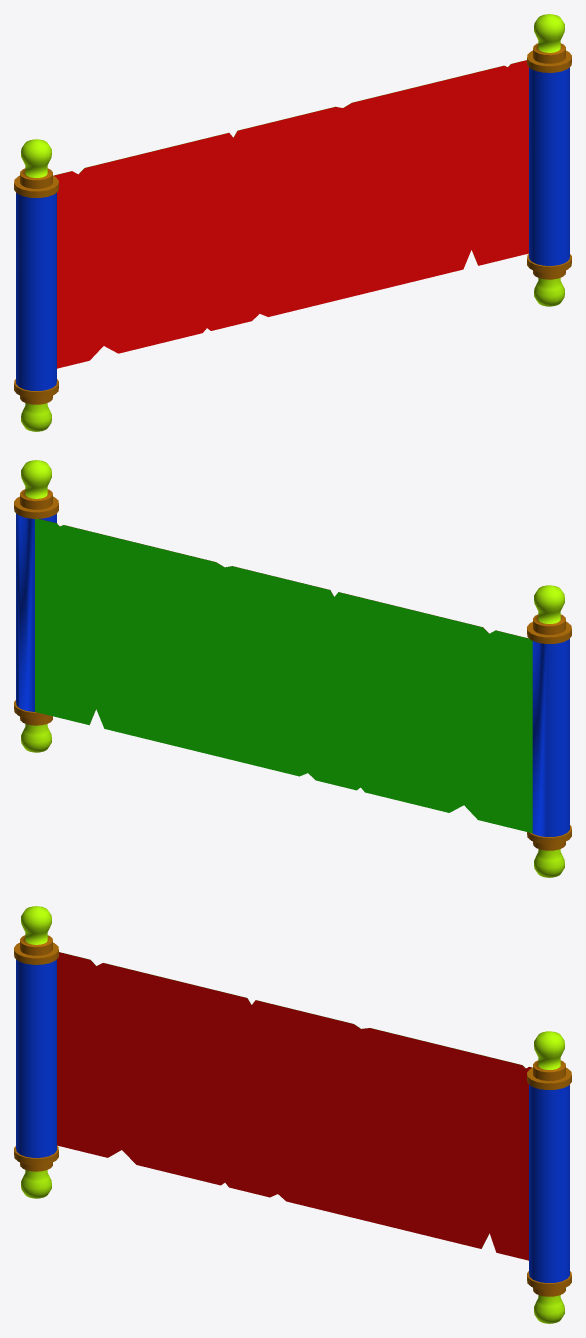
Rendered from Scroll Unrolled.fbx.
The picture shows the model from 3 angles, top to bottom: view 1: azimuth 30°, elevation 25°; view 2: azimuth 150°, elevation 25°; view 3: azimuth 330°, elevation 25°; orthographic projection.
Parts seen in each view (by area): view 1: unrolled_scroll; view 2: unrolled_scroll; view 3: unrolled_scroll.
Boxes of the visible parts, left/top/right/bottom form: unrolled_scroll: left=14, top=14, right=571, bottom=431; unrolled_scroll: left=14, top=460, right=571, bottom=877; unrolled_scroll: left=14, top=906, right=571, bottom=1323.
Bounding box in the file's own units: 149 × 74.74 × 10.6.
